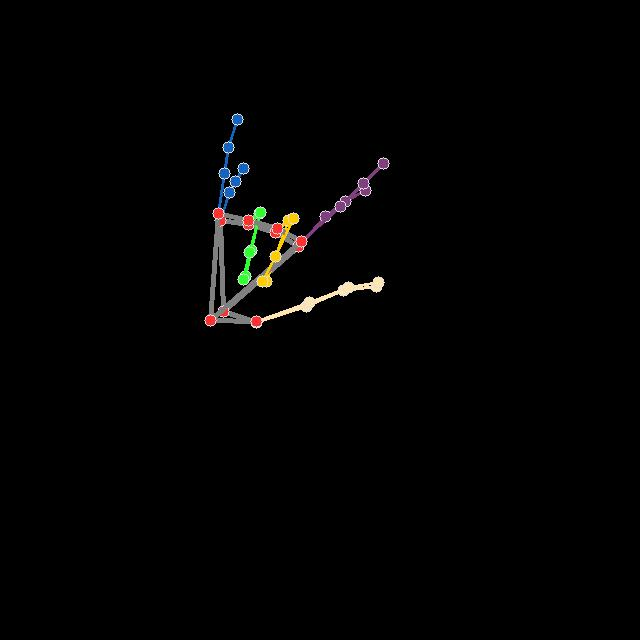spiderman: (201, 111, 396, 330)
